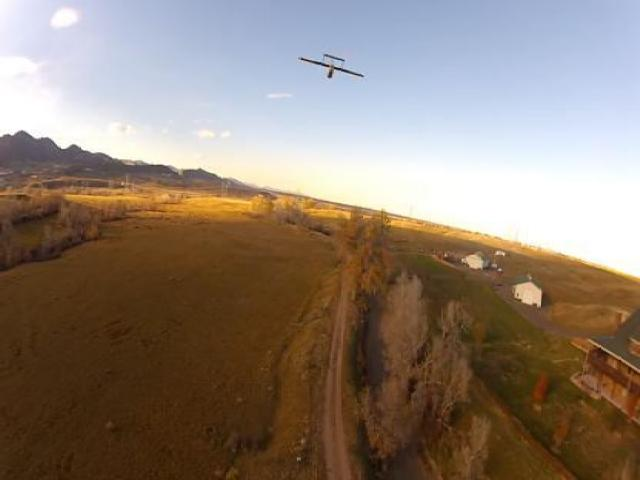uav: (296, 51, 367, 82)
